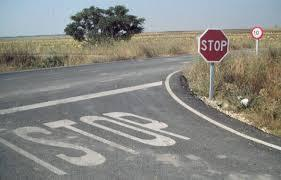Pole: (210, 64, 214, 100), (255, 40, 259, 55)
Sign: (199, 28, 229, 62)
